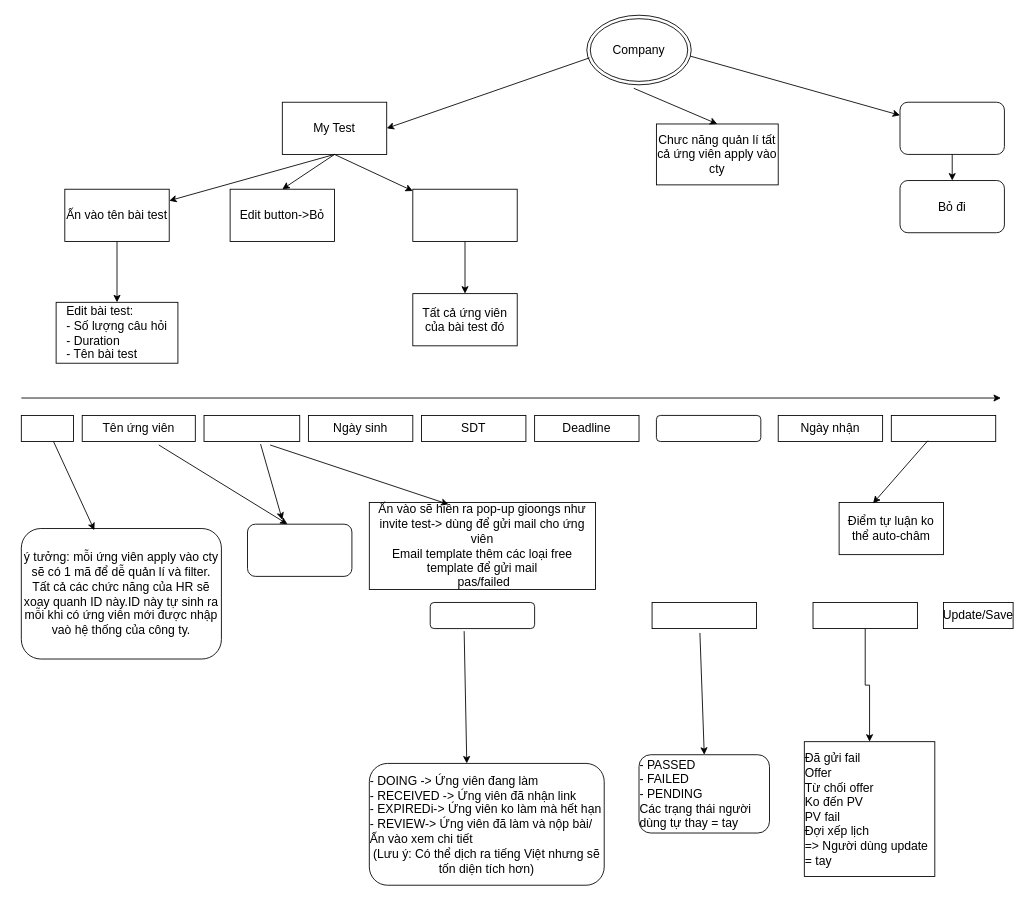
Some shapes in this 1028 by 900 pixel diagram are drawn without their labels. The shapes that lost their labels are listed below. From the top down, each one's box as (x1, y1, x2, y2) in pixels, then its label:
(899, 101, 1004, 154): Test Result
(412, 188, 517, 241): Report button
(20, 415, 74, 442): ID ứng viên
(203, 415, 300, 442): Email
(656, 415, 761, 442): Ngày gửi
(890, 415, 996, 442): Điểm
(247, 523, 352, 576): Tên có thể rất dài
(429, 602, 535, 629): Status
(651, 602, 756, 629): Result status
(812, 602, 917, 629): Feedback status
